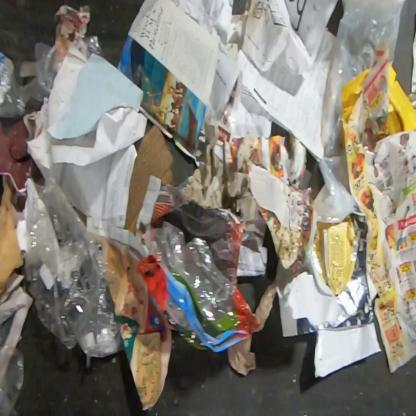cardboard: (124, 124, 176, 235)
rigid_plastic: (23, 176, 121, 370), (385, 64, 415, 135), (342, 68, 370, 124)
soft_plastic: (312, 0, 408, 225), (137, 220, 261, 355), (0, 3, 105, 120), (305, 208, 361, 297), (0, 344, 26, 415)
